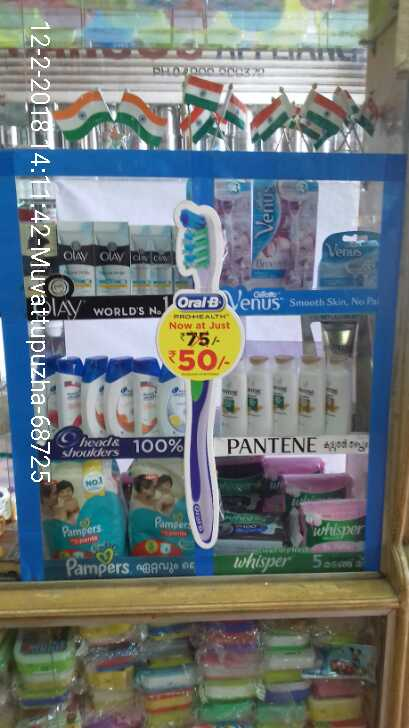venus: (253, 172, 315, 287), (221, 177, 253, 284), (320, 230, 380, 287)
